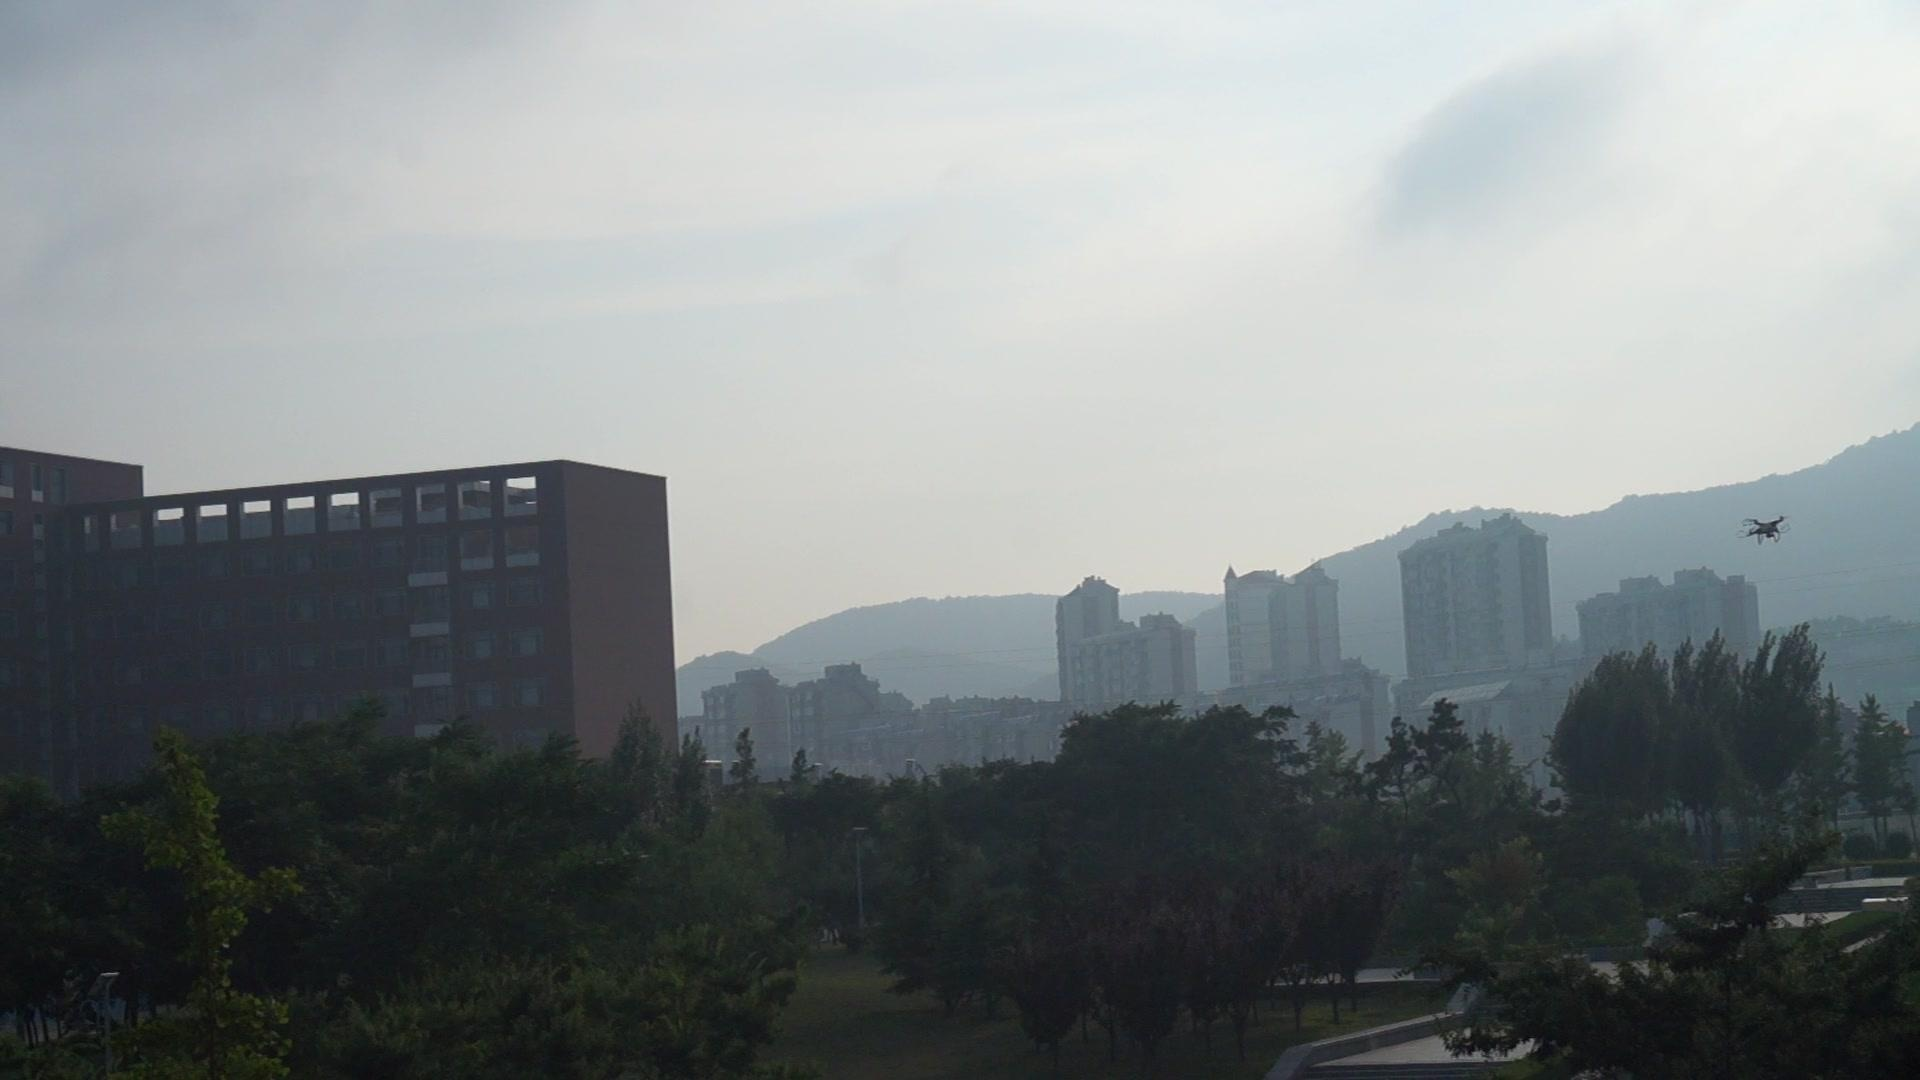UAV: (1735, 516, 1792, 545)
